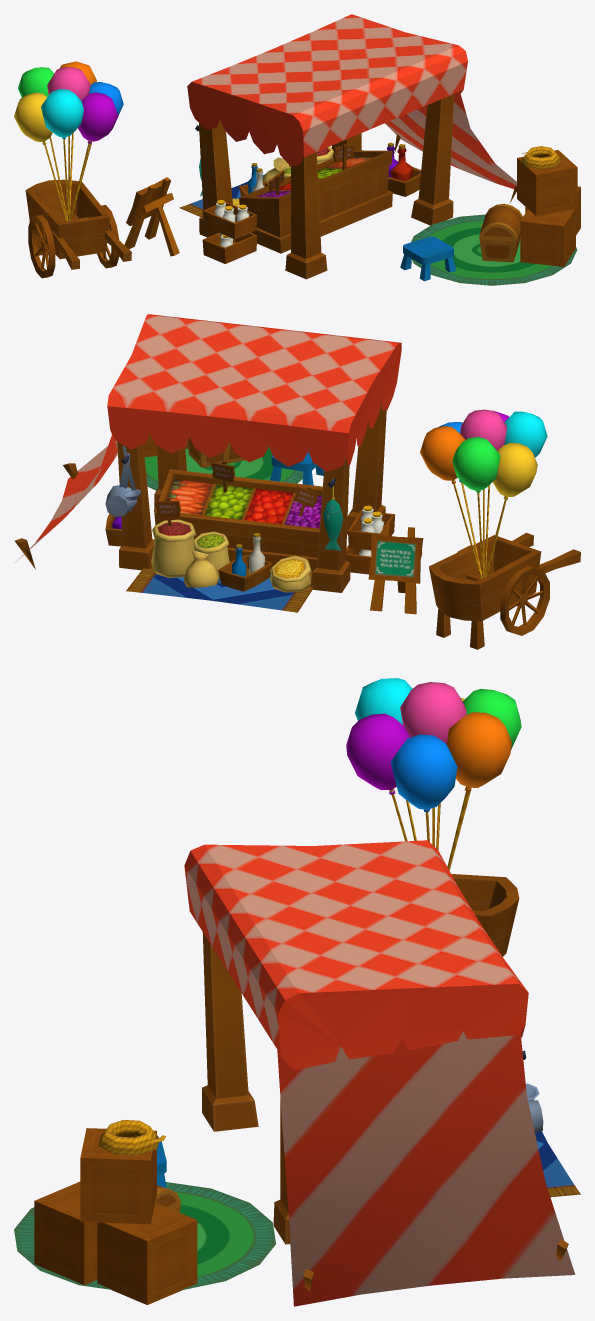
File: HOS1010001.fbx
The picture shows the model from 3 angles, top to bottom: view 1: azimuth 30°, elevation 25°; view 2: azimuth 150°, elevation 25°; view 3: azimuth 270°, elevation 25°; orthographic projection. The views are drawn at different scales.
Parts seen in each view (by area): view 1: smHOS1010001; view 2: smHOS1010001; view 3: smHOS1010001.
Boxes of the visible parts, x1,y1,x2,y2 form: smHOS1010001: (14, 14, 580, 285); smHOS1010001: (14, 314, 580, 649); smHOS1010001: (14, 678, 580, 1306).
Size of what is drawn, in the model's own units: 827 by 343 by 557.
Materials: 1 (1 with a texture image).
